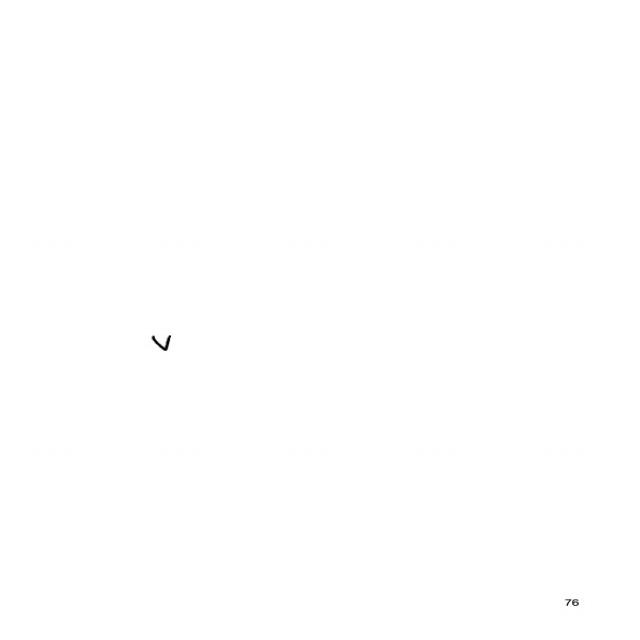7 -seven-: (148, 332, 176, 354)
